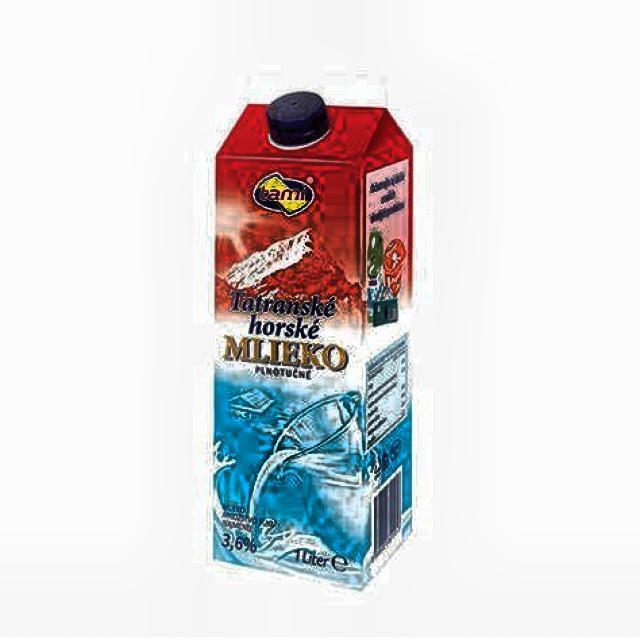cardboard: (209, 92, 416, 589)
